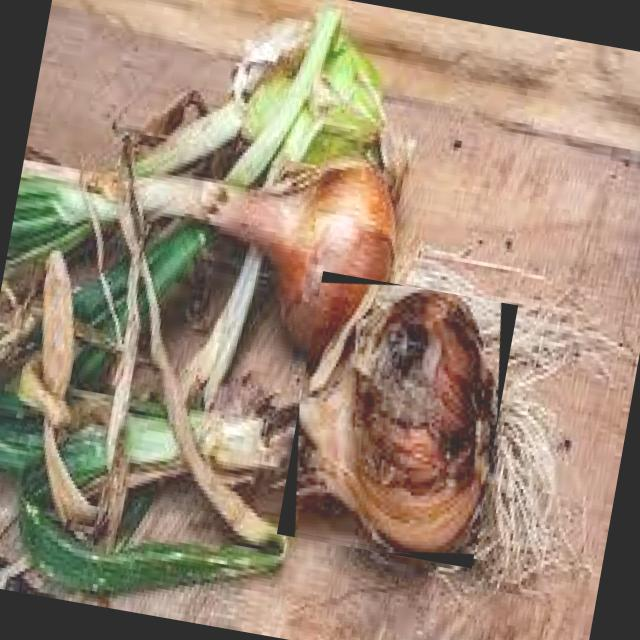rotten: (298, 289, 495, 555)
